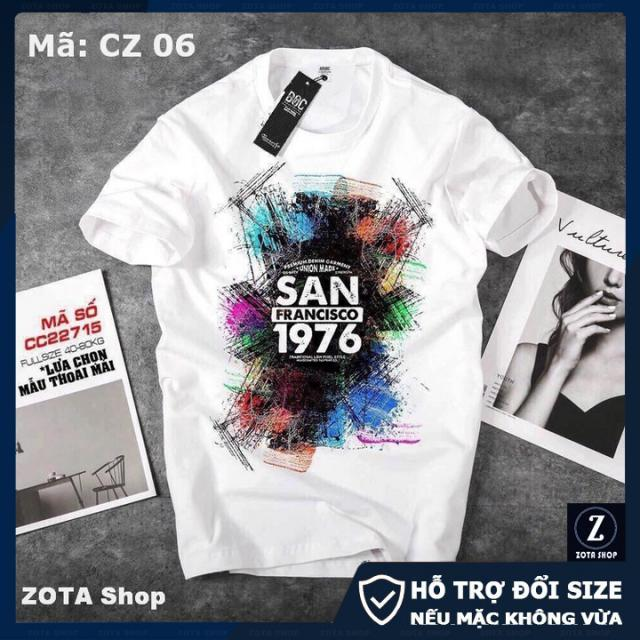Shirt: (76, 48, 562, 587)
